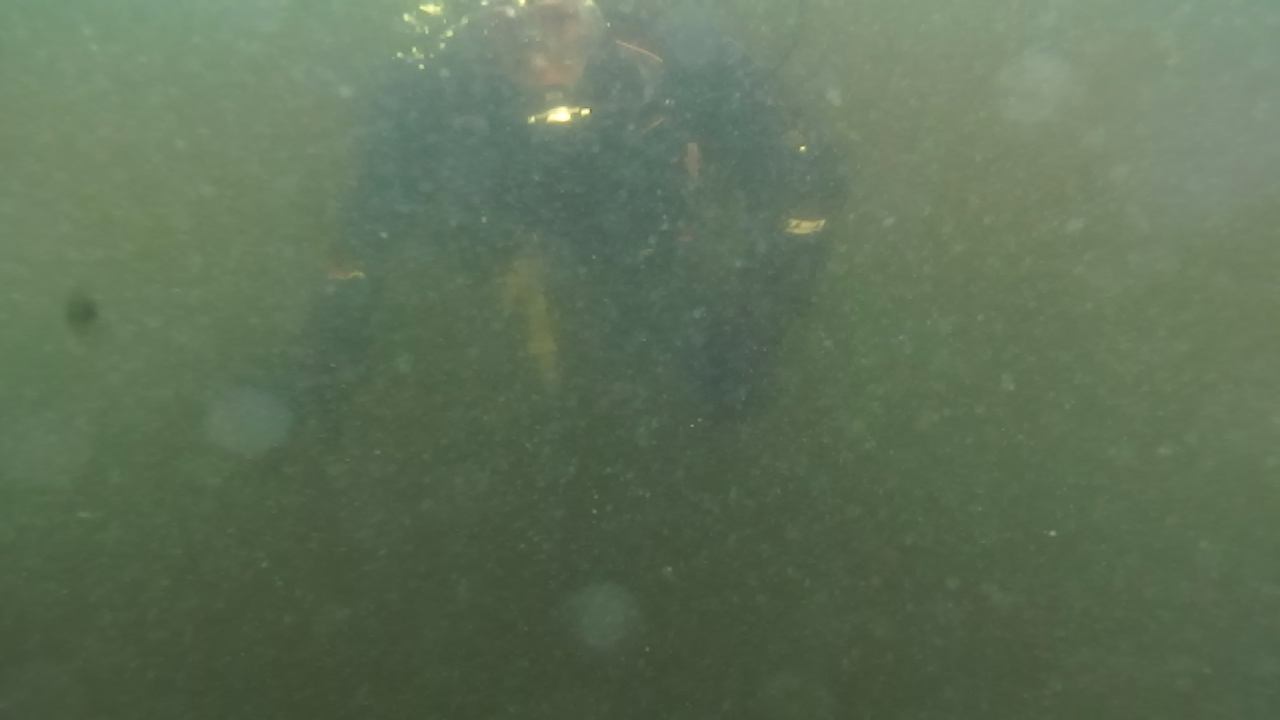Diver: (236, 0, 904, 444)
Head: (456, 8, 636, 140)
